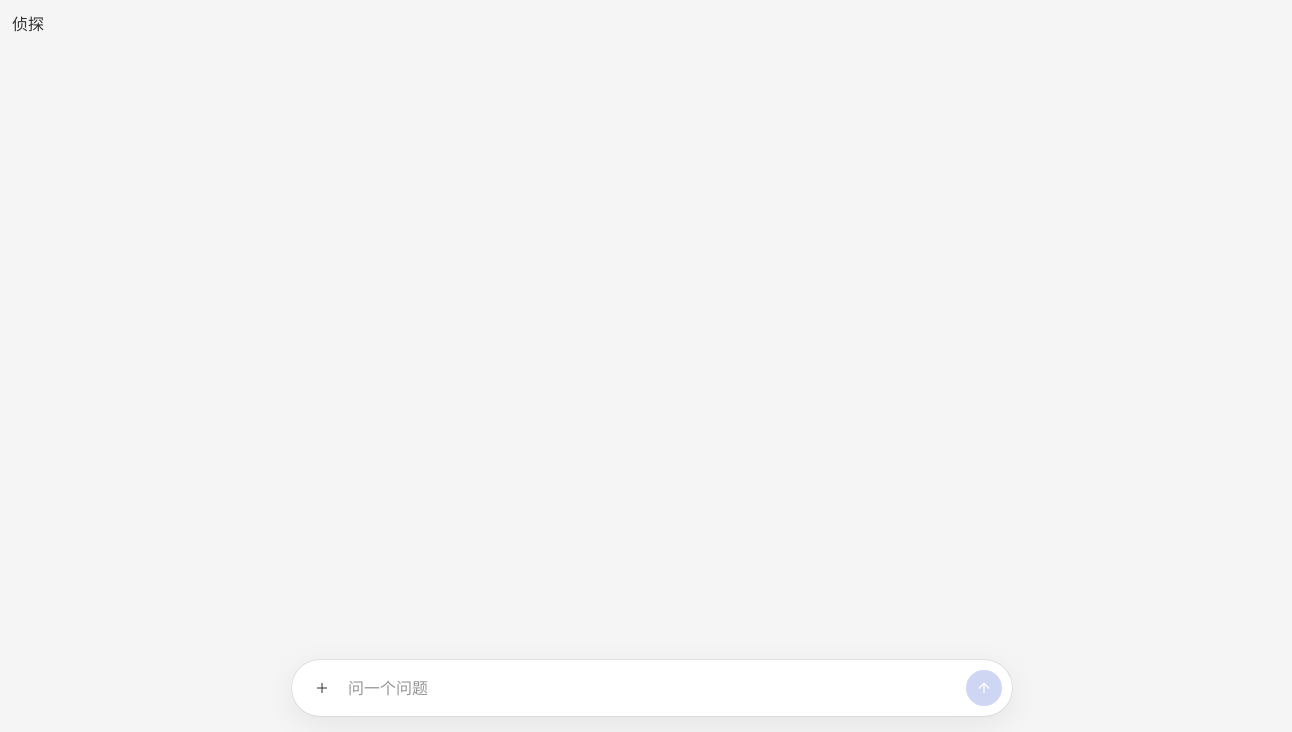
Test: 侦探过程 › 停止会取消进行中的请求并恢复输入
This screenshot has width=1292, height=732.
Type "查一下报名时间" into the text box named "问侦探" at {"x": 653, "y": 688}, box top-left (348, 670), bottom-right (958, 706)
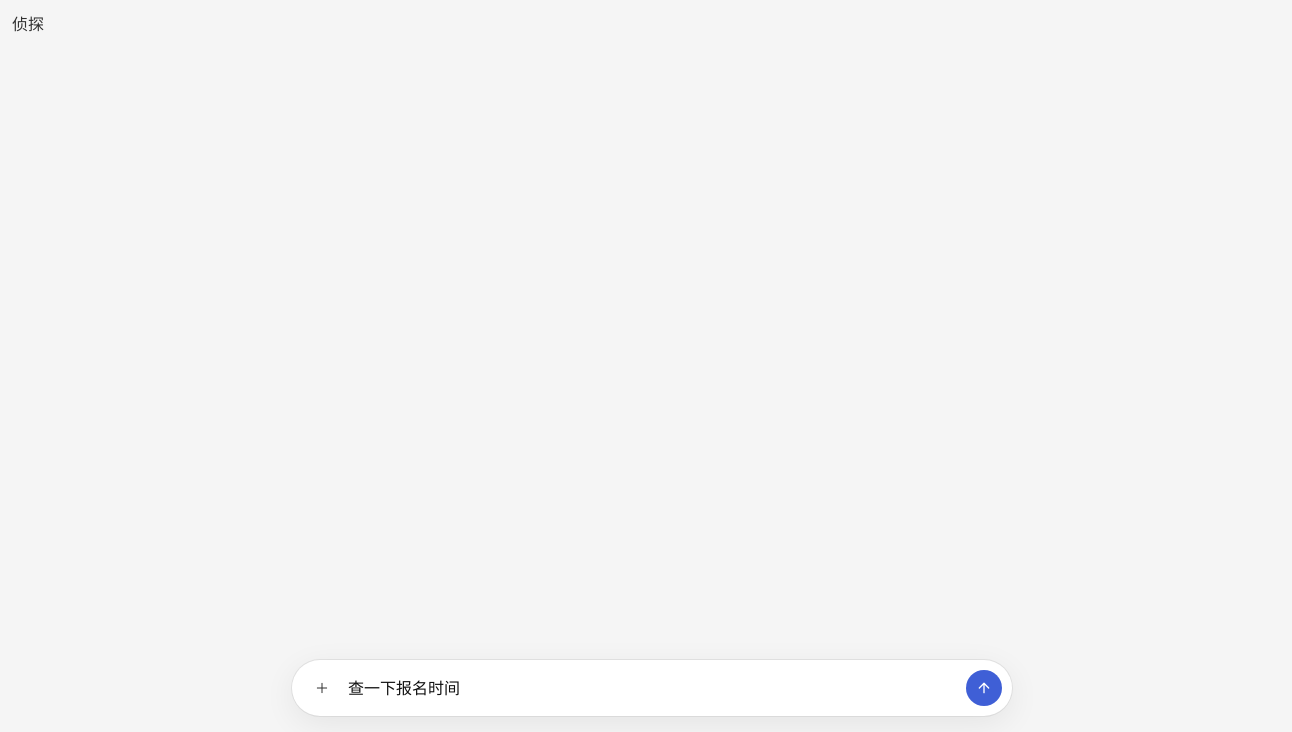
Submit the form named "查证", box top-left (292, 660), bottom-right (1012, 716)
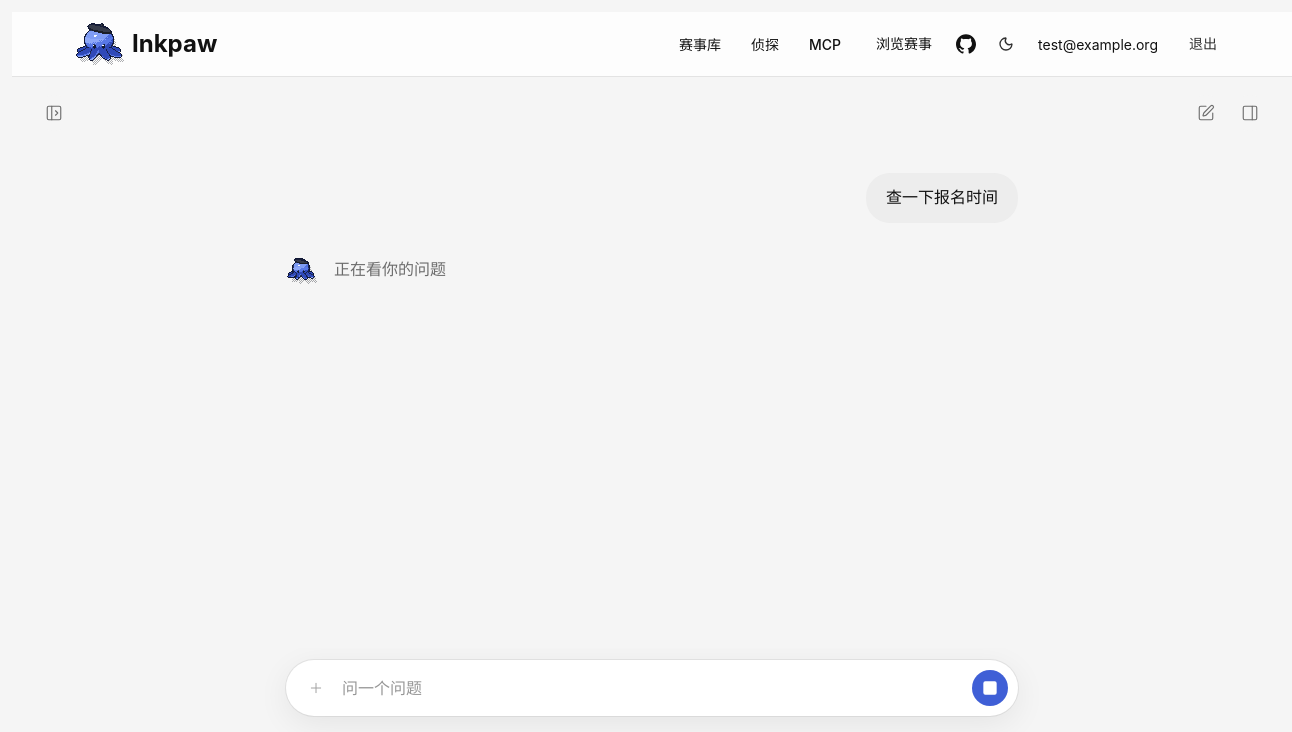
Click the button named "停止查证" at {"x": 990, "y": 688}, box top-left (972, 670), bottom-right (1008, 706)
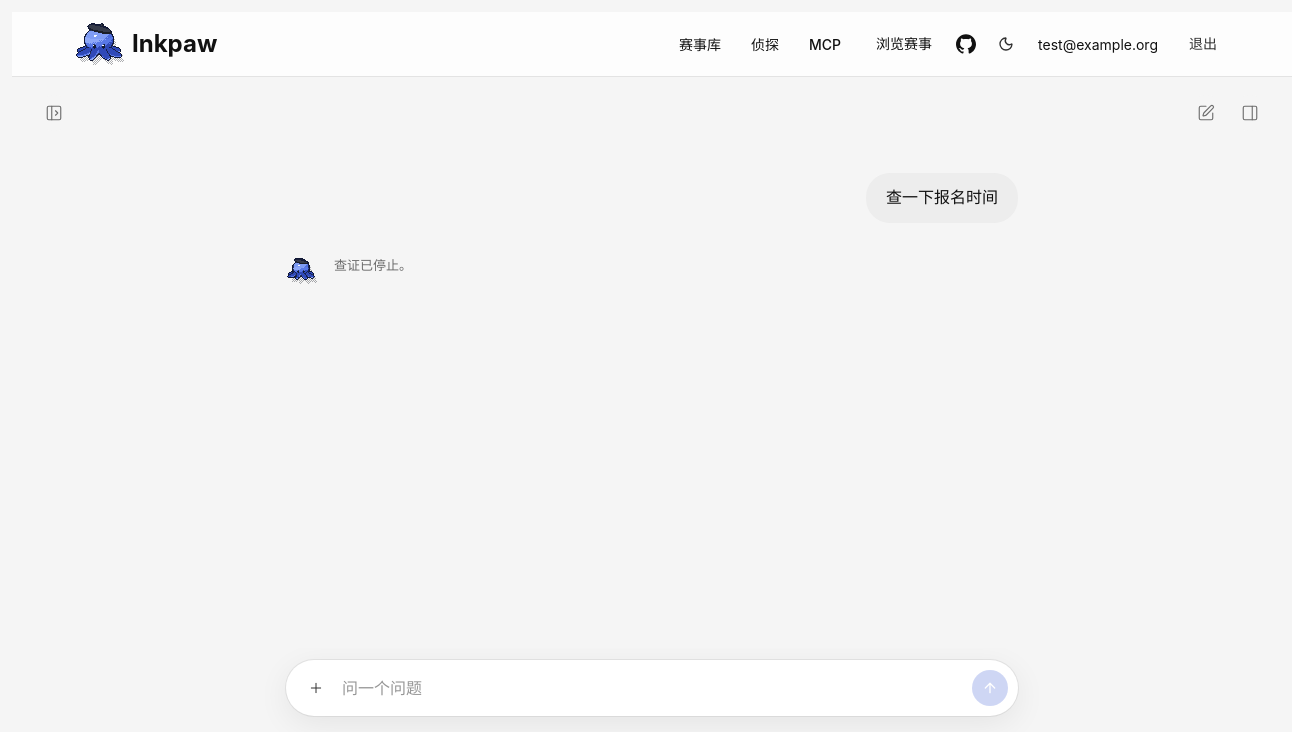
expect the text box named "问侦探" is enabled: met, box top-left (342, 670), bottom-right (964, 706)
expect the text "查证已停止。" is shown: met, box top-left (334, 257), bottom-right (412, 273)
